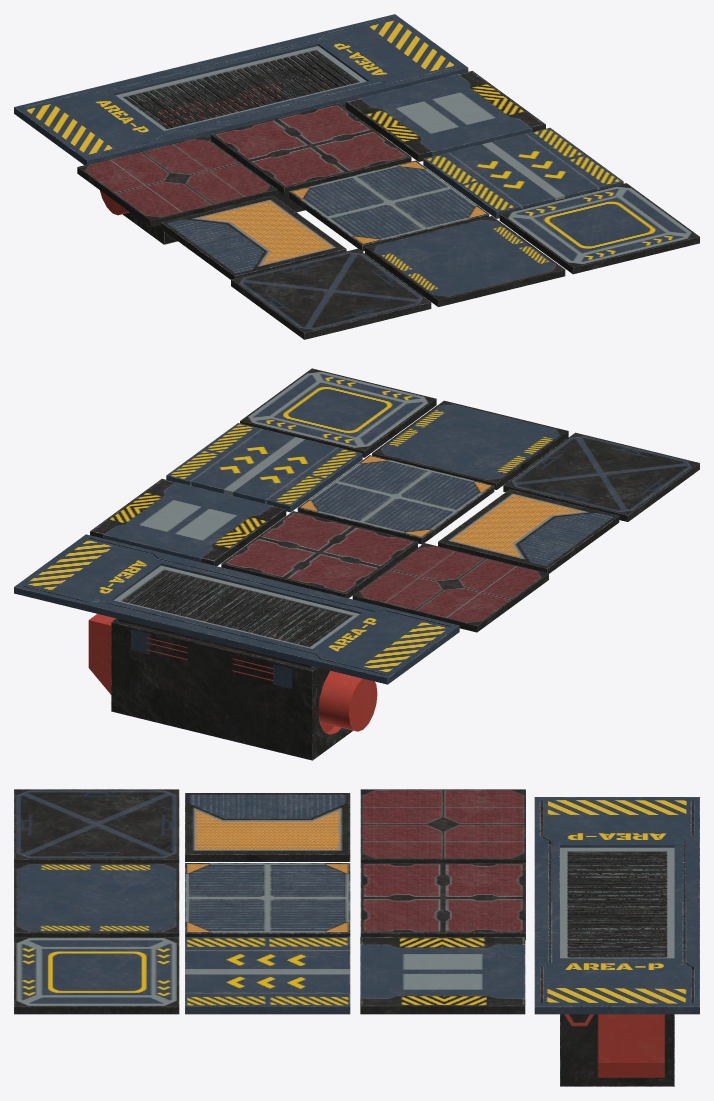
File: sfFloorPack001.fbx
3 views of the same model, one above another, from view 1: azimuth 30°, elevation 25°; view 2: azimuth 150°, elevation 25°; view 3: azimuth 270°, elevation 25° (orthographic). The views are drawn at different scales.
Parts seen in each view (by area): view 1: sfFloorPack010, sfFloorPack003, sfFloorPack001, sfFloorPack002, sfFloorPack007, sfFloorPack008, sfFloorPack009, sfFloorPack004, sfFloorPack005, sfFloorPack006; view 2: sfFloorPack010, sfFloorPack005, sfFloorPack004, sfFloorPack007, sfFloorPack009, sfFloorPack008, sfFloorPack001, sfFloorPack002, sfFloorPack003, sfFloorPack006; view 3: sfFloorPack010, sfFloorPack003, sfFloorPack004, sfFloorPack009, sfFloorPack008, sfFloorPack001, sfFloorPack002, sfFloorPack005, sfFloorPack007, sfFloorPack006.
Boxes of the visible parts, box(x1,y1,x2,y2) form: sfFloorPack010: box(14, 14, 468, 244); sfFloorPack003: box(499, 183, 699, 274); sfFloorPack001: box(231, 248, 431, 339); sfFloorPack002: box(365, 216, 565, 306); sfFloorPack007: box(77, 136, 277, 227); sfFloorPack008: box(211, 103, 411, 194); sfFloorPack009: box(345, 71, 545, 161); sfFloorPack004: box(423, 127, 623, 218); sfFloorPack005: box(289, 160, 489, 251); sfFloorPack006: box(161, 195, 346, 279); sfFloorPack010: box(14, 534, 459, 760); sfFloorPack005: box(297, 455, 494, 544); sfFloorPack004: box(166, 423, 362, 512); sfFloorPack007: box(352, 543, 548, 632); sfFloorPack009: box(90, 479, 286, 566); sfFloorPack008: box(221, 511, 417, 598); sfFloorPack001: box(503, 432, 699, 521); sfFloorPack002: box(372, 400, 568, 489); sfFloorPack003: box(240, 368, 436, 457); sfFloorPack006: box(438, 489, 619, 573); sfFloorPack010: box(534, 797, 699, 1086); sfFloorPack003: box(14, 937, 179, 1014); sfFloorPack004: box(185, 937, 350, 1014); sfFloorPack009: box(360, 937, 525, 1014); sfFloorPack008: box(360, 863, 525, 940); sfFloorPack001: box(14, 789, 179, 862); sfFloorPack002: box(14, 863, 179, 936); sfFloorPack005: box(185, 863, 350, 936); sfFloorPack007: box(360, 789, 525, 862); sfFloorPack006: box(185, 793, 350, 861).
Size of the model in its own units: 623 by 171 by 830.
